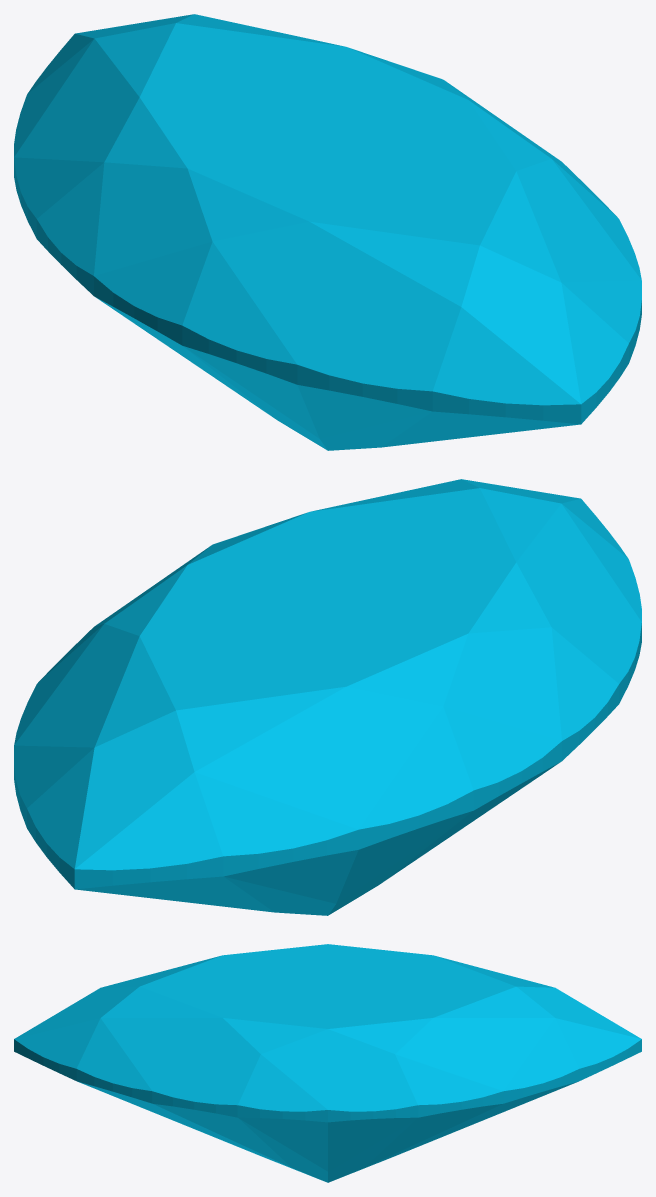
Rendered from Head_No Halo_Marquise_0.50ct_Diamond.glb.
The picture shows the model from 3 angles, top to bottom: view 1: azimuth 30°, elevation 25°; view 2: azimuth 150°, elevation 25°; view 3: azimuth 270°, elevation 25°; orthographic projection. The views are drawn at different scales.
Bounding box in the file's own units: 0.00426 × 0.00275 × 0.00797.
